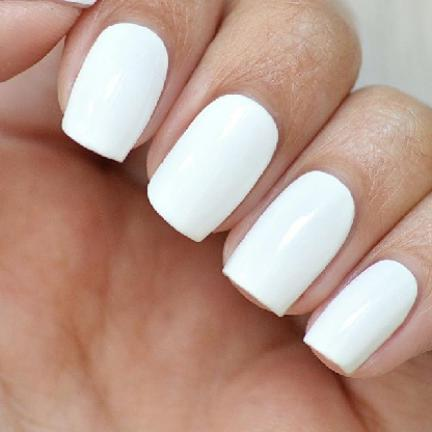Nail: (224, 170, 356, 318), (148, 94, 278, 243), (62, 23, 169, 163), (303, 259, 418, 375)
